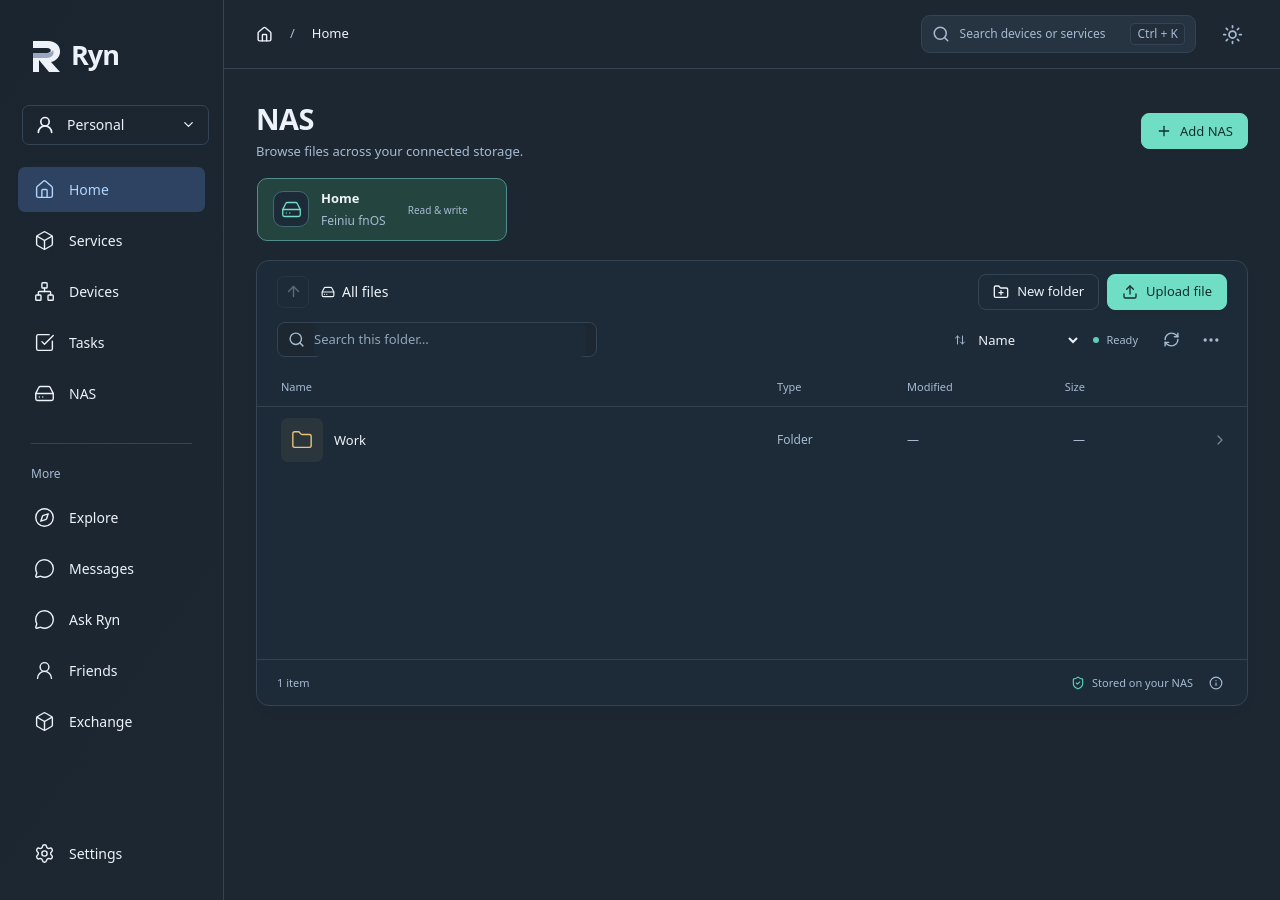
navigates breadcrumbs and clears the previous folder search
This screenshot has width=1280, height=900.
Expected: the button "Work" is shown, [281,418,753,462]
Type "Work" into the field named "Filter this folder" at (450,340), box [314,323,586,357]
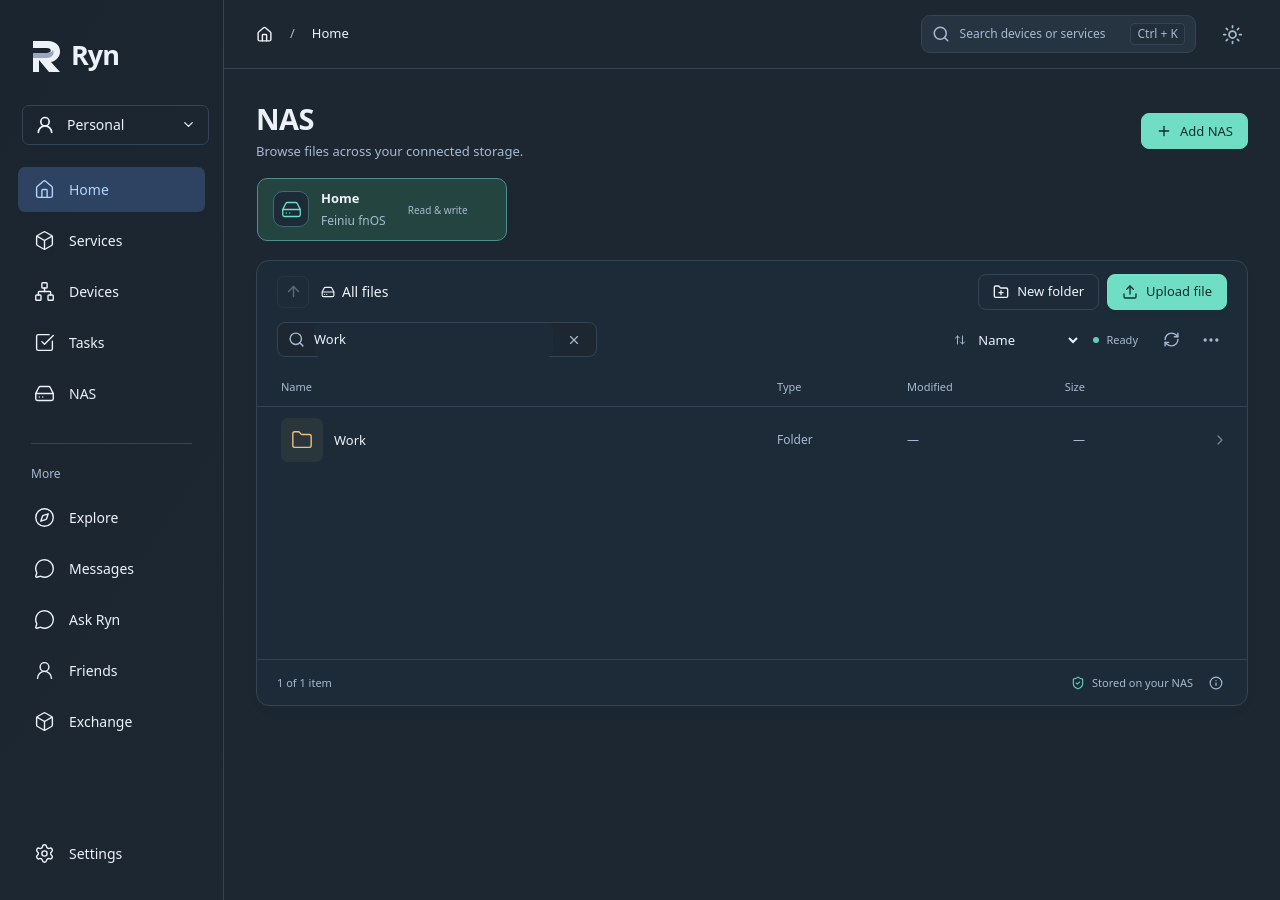
Click the button "Work" at (302,440), box [281,418,753,462]
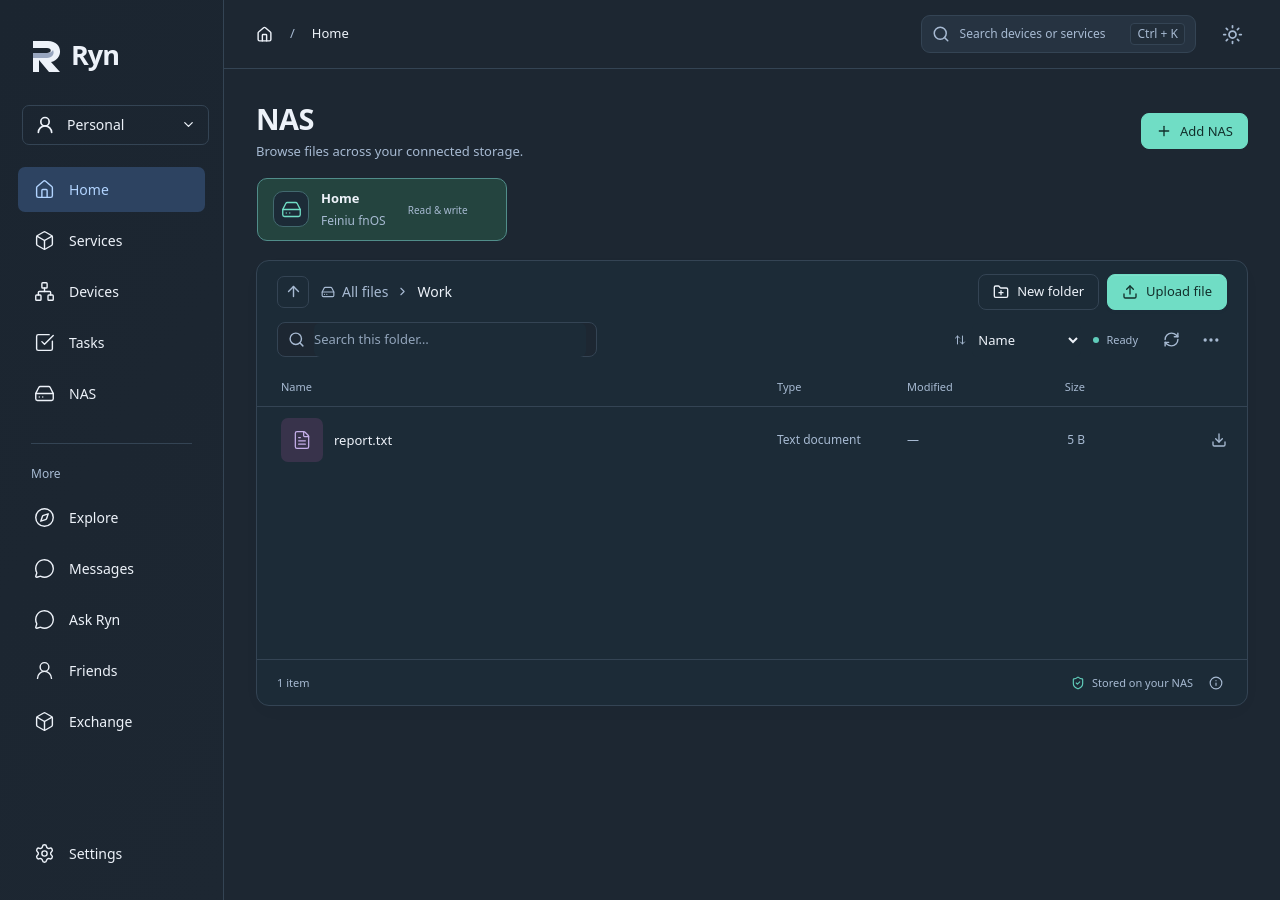
Expected: the button "report.txt" is shown, [281,418,753,462]
Expected: the field named "Filter this folder" is empty, [314,323,586,357]
Click the button "All files" at (355,292), box [319,276,390,307]
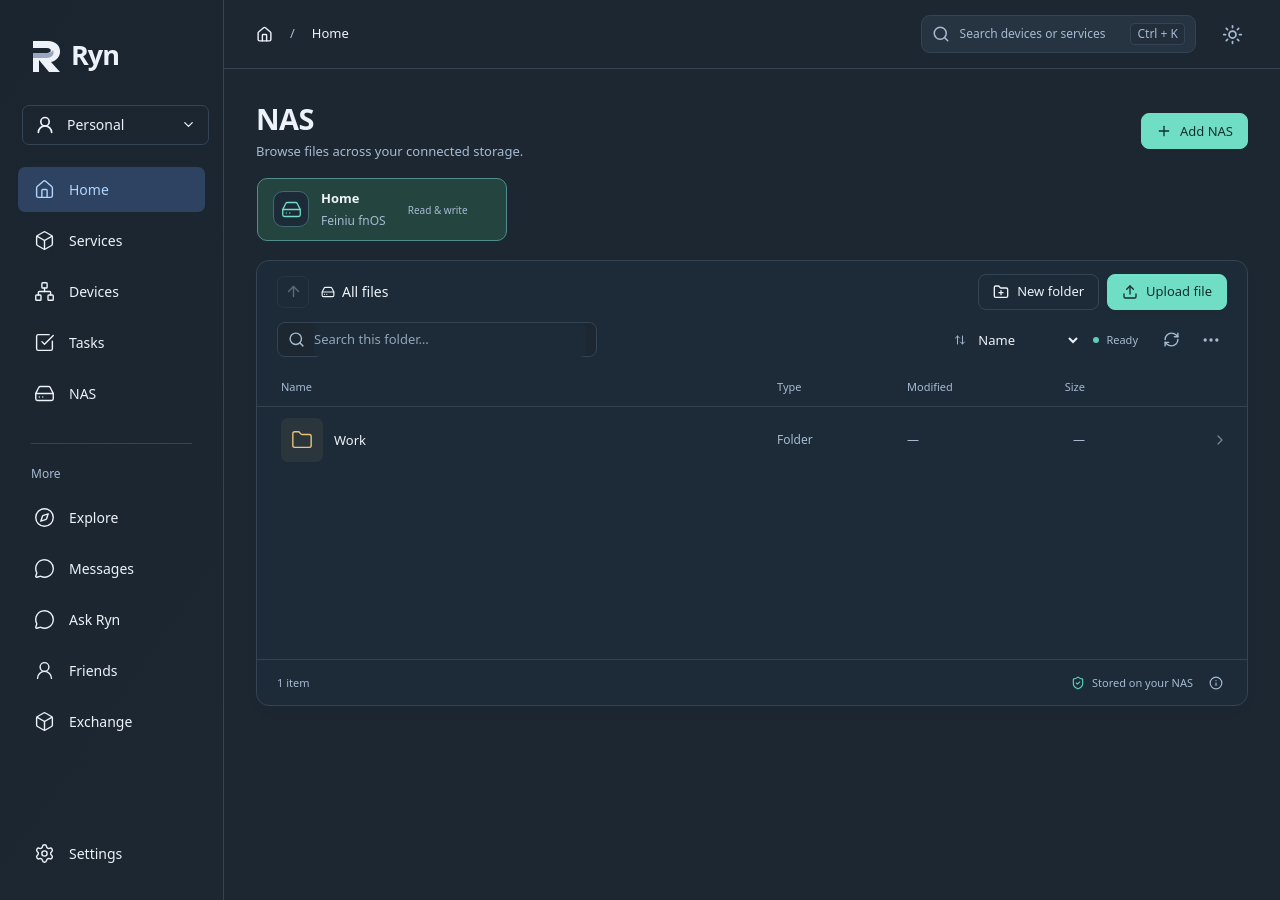
Expected: the button "Work" is shown, [281,418,753,462]
